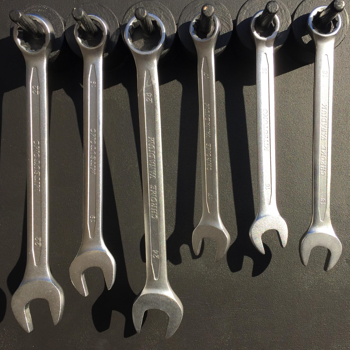bottom: (9, 273, 67, 333), (130, 287, 187, 340), (67, 247, 119, 301), (297, 224, 342, 275), (247, 212, 290, 256), (189, 220, 231, 265)
top: (122, 11, 167, 58), (11, 13, 56, 59), (71, 13, 113, 55), (305, 3, 344, 41), (186, 10, 224, 46), (250, 7, 281, 42)
